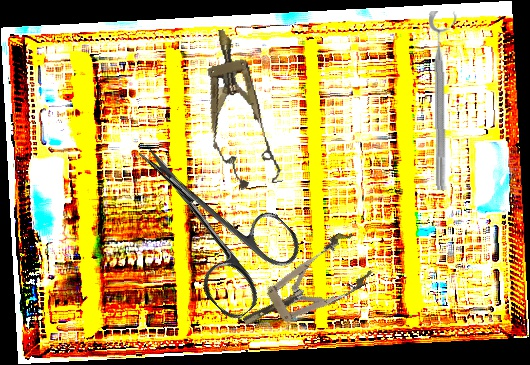Fixation Ring: (428, 10, 461, 191)
Iris Scissors: (102, 113, 312, 326)
Speculum: (229, 227, 378, 347), (189, 23, 287, 194)
